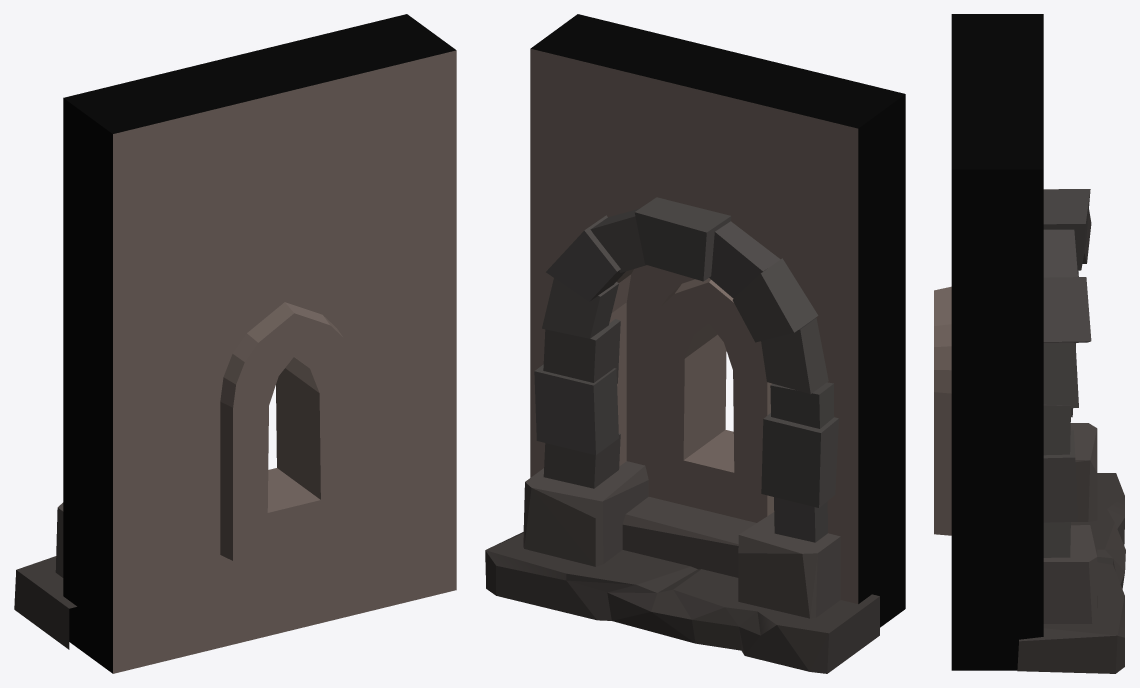
File: Wall_S_SmallWindow.fbx
3 renders of one model, left to right at view 1: azimuth 30°, elevation 25°; view 2: azimuth 150°, elevation 25°; view 3: azimuth 270°, elevation 25°, orthographic. The views are drawn at different scales.
Parts seen in each view (by area): view 1: Wall_S_SmallWindow1; view 2: Wall_S_SmallWindow1; view 3: Wall_S_SmallWindow1.
Boxes of the visible parts, box(x1,y1,x2,y2) form: Wall_S_SmallWindow1: box(14, 14, 456, 673); Wall_S_SmallWindow1: box(485, 14, 905, 673); Wall_S_SmallWindow1: box(934, 14, 1125, 673).
Bounding box in the file's own units: 4.02 × 5.76 × 2.
